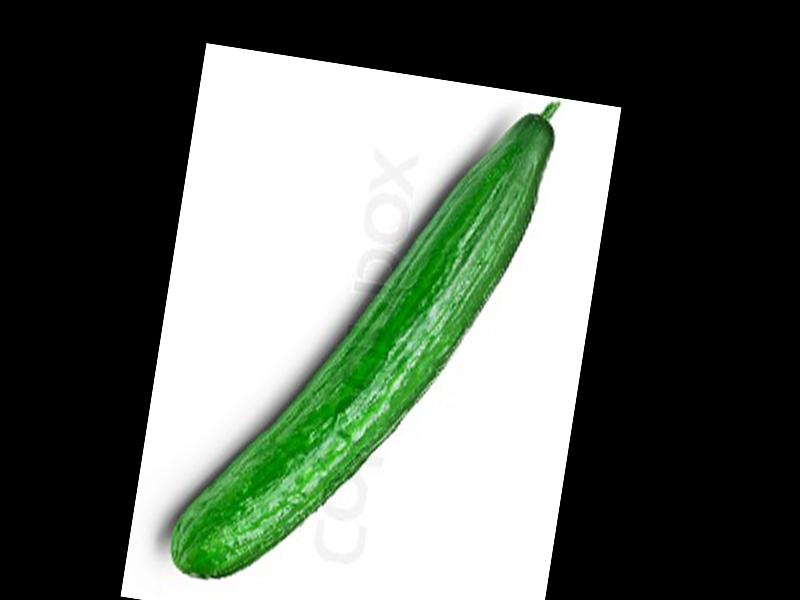Cucumber: (163, 48, 560, 600)
